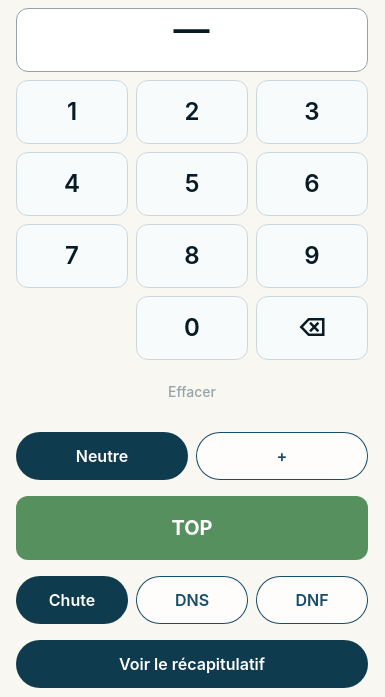
JudgeAscentEntry › refuse d’avancer au récapitulatif sans prise ni statut choisi
(page scrolled)
Click the button "Voir le récapitulatif": (192, 664) [16,640,368,688]
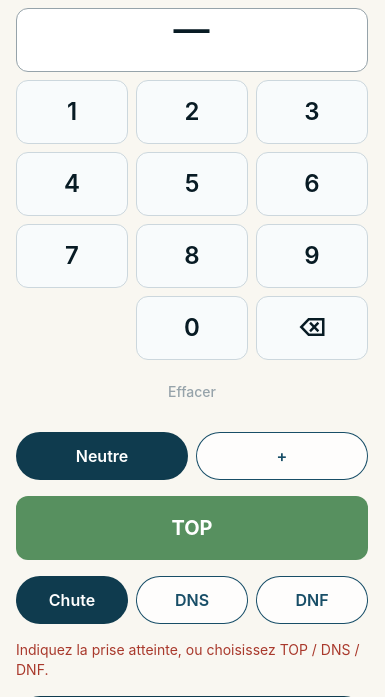
expect the text "Indiquez la prise atteinte" is shown: met, box [16,641,360,678]
